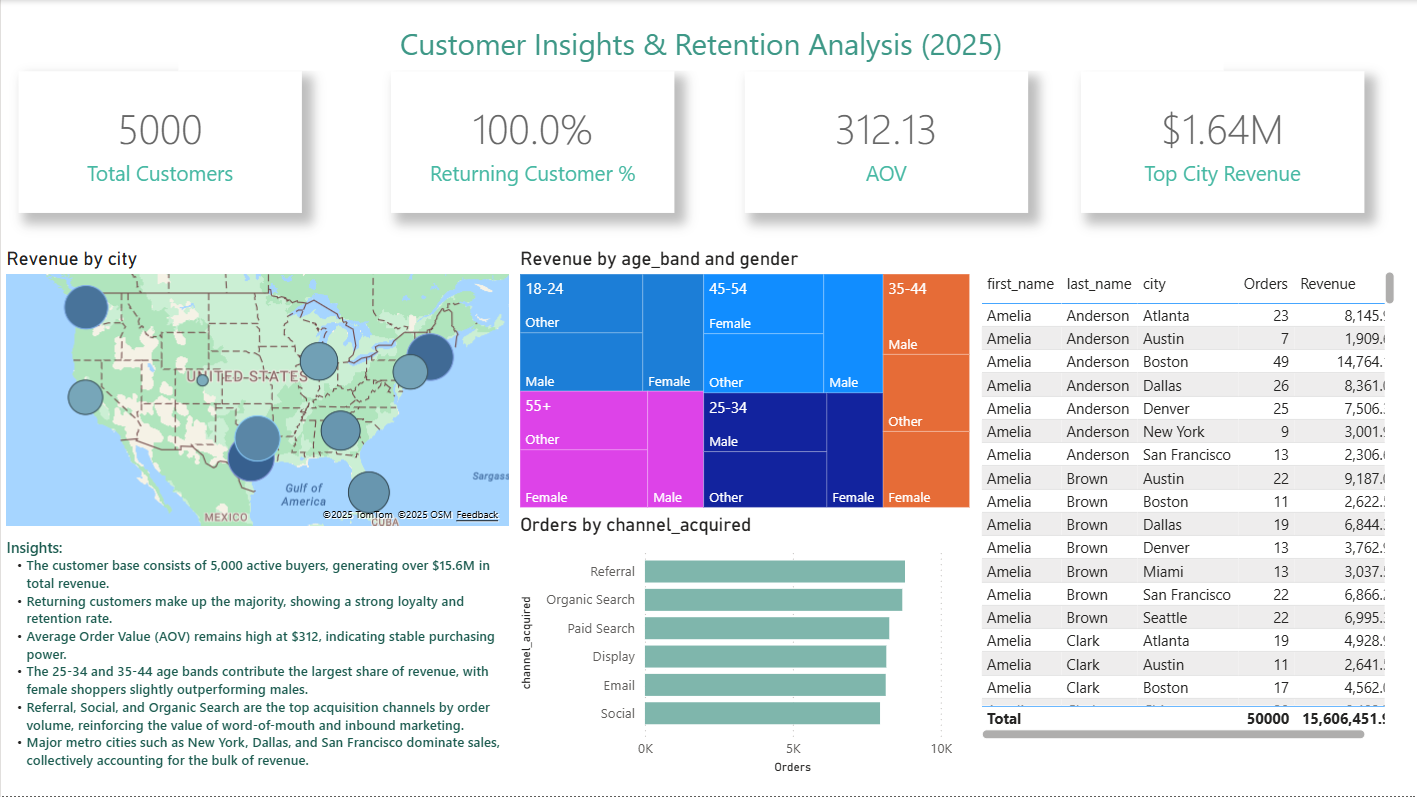

This screenshot's page, from the dashboard's own definition file:
{"tool":"powerbi","page":{"name":"Customer Insights & Retention","canvas":[1280,720],"ordinal":3},"visuals":[{"type":"card","fields":{"Values":["fact_orders.Total_Customers"]},"box":[16,64,256,128],"z":0},{"type":"card","title":"Returning Customers %","fields":{"Values":["fact_orders.Returning_Customer_Pct"]},"box":[352,64,256,128],"z":1000},{"type":"card","fields":{"Values":["fact_orders.Top_City_Revenue"]},"box":[976,64,256,128],"z":2000},{"type":"card","fields":{"Values":["fact_orders.AOV"]},"box":[672,64,256,128],"z":3000},{"type":"azureMap","fields":{"Category":["dim_customer.city"],"Size":["fact_orders.Revenue"]},"box":[0,224,464,256],"z":4000},{"type":"treemap","fields":{"Group":["dim_customer.age_band"],"Details":["dim_customer.gender"],"Values":["fact_orders.Revenue"]},"box":[464,224,416,240],"z":5000},{"type":"clusteredBarChart","fields":{"Category":["dim_customer.channel_acquired"],"Y":["fact_orders.Orders"]},"box":[464,464,400,240],"z":6000},{"type":"tableEx","fields":{"Values":["dim_customer.first_name","dim_customer.last_name","dim_customer.city","fact_orders.Orders","fact_orders.Revenue"]},"box":[880,240,384,432],"z":7000},{"type":"textbox","box":[0,480,464,224],"z":8000},{"type":"textbox","box":[160,16,944,48],"z":9000}]}

Visuals, with their boxes in screenshot pixels (x1, y1, x2, y2), scaled from the page's 1280x720 canvas onto the 1417x797 screenshot:
card - fact_orders.Total_Customers: (left=18, top=71, right=301, bottom=213)
"Returning Customers %" card: (left=390, top=71, right=673, bottom=213)
card - fact_orders.Top_City_Revenue: (left=1080, top=71, right=1364, bottom=213)
card - fact_orders.AOV: (left=744, top=71, right=1027, bottom=213)
azureMap - dim_customer.city x fact_orders.Revenue: (left=0, top=248, right=514, bottom=531)
treemap - dim_customer.age_band x dim_customer.gender: (left=514, top=248, right=974, bottom=514)
clusteredBarChart - dim_customer.channel_acquired x fact_orders.Orders: (left=514, top=514, right=956, bottom=779)
tableEx - dim_customer.first_name x dim_customer.last_name: (left=974, top=266, right=1399, bottom=744)
textbox: (left=0, top=531, right=514, bottom=779)
textbox: (left=177, top=18, right=1222, bottom=71)
